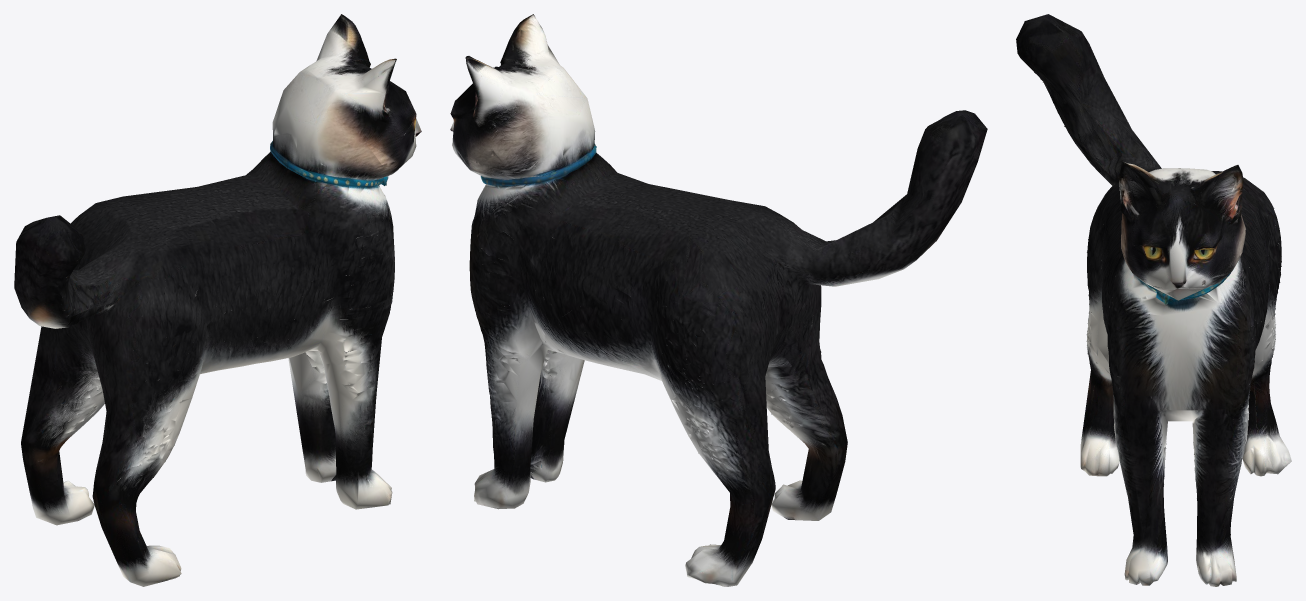
File: SOCKSCACAT.glb
The picture shows the model from 3 angles, left to right: view 1: azimuth 30°, elevation 25°; view 2: azimuth 150°, elevation 25°; view 3: azimuth 270°, elevation 25°; orthographic projection. The views are drawn at different scales.
Parts seen in each view (by area): view 1: fit; view 2: fit; view 3: fit.
Part boxes in pixels (x1,y1,x2,y2): fit: [14, 14, 421, 586]; fit: [450, 14, 987, 586]; fit: [1016, 14, 1291, 586].
Size of the model in its own units: 1.08 by 1 by 0.5906.
Materials: 1 (1 with a texture image).
